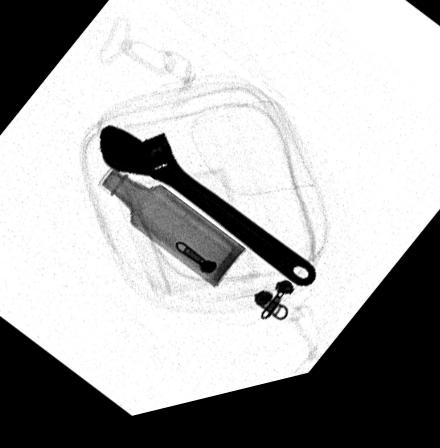Wrench: (95, 126, 318, 303)
